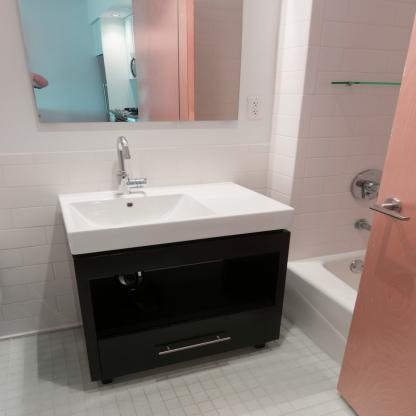door: (365, 0, 415, 415)
lever: (367, 200, 415, 225)
